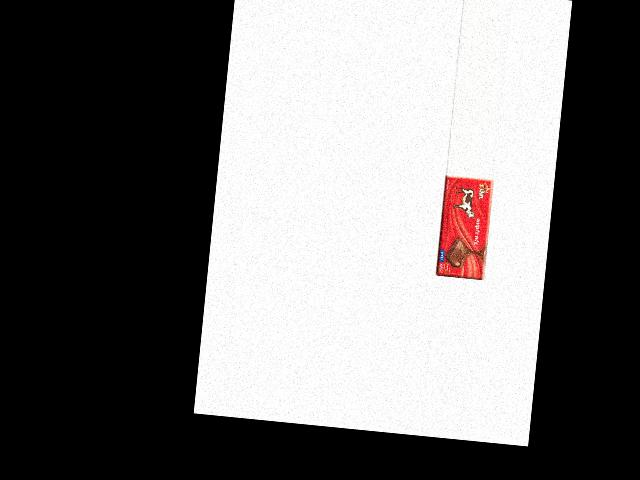chocolate: (435, 173, 494, 280)
